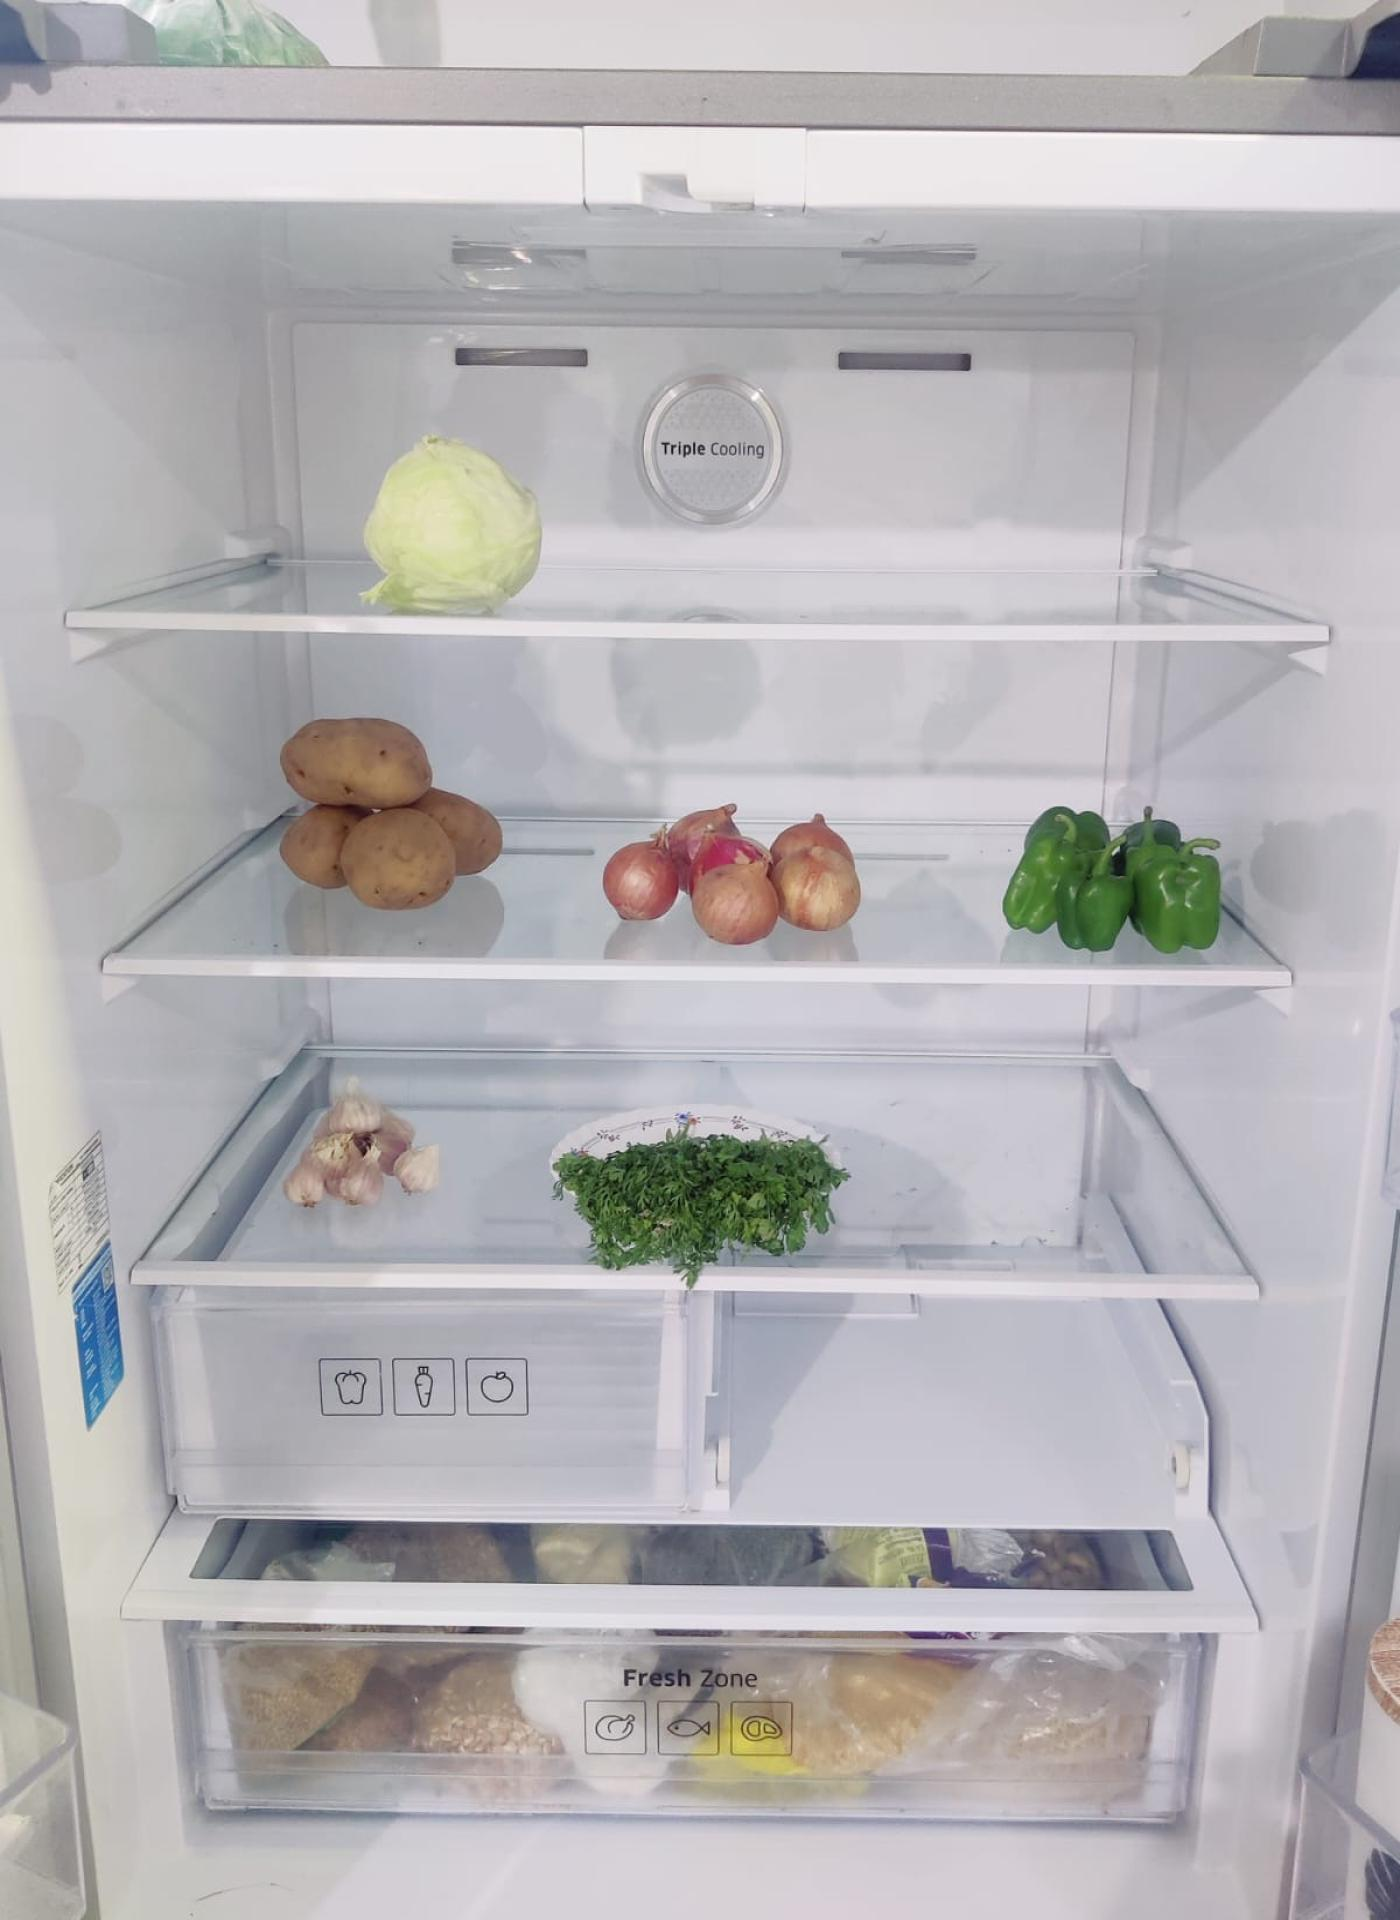cabbage: (365, 432, 543, 611)
capsicum: (1005, 799, 1224, 951)
carrots: (277, 720, 501, 914)
coriander: (558, 1122, 842, 1257)
garlic: (285, 1073, 440, 1203)
onion: (604, 802, 865, 939)
